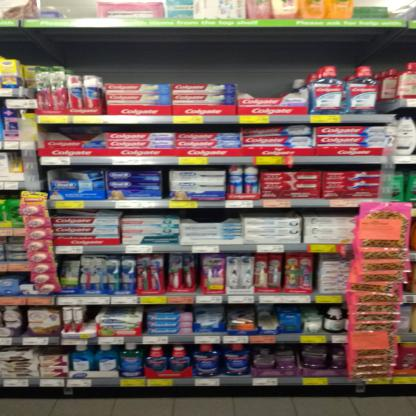Void: (106, 124, 234, 133), (238, 84, 304, 99), (39, 126, 103, 141), (184, 210, 240, 222)
